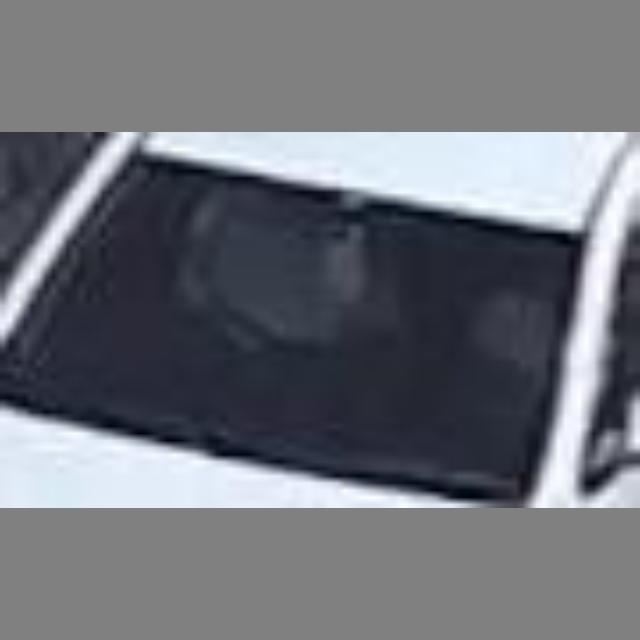tidak-pakai: (178, 189, 377, 360), (462, 239, 590, 402)
